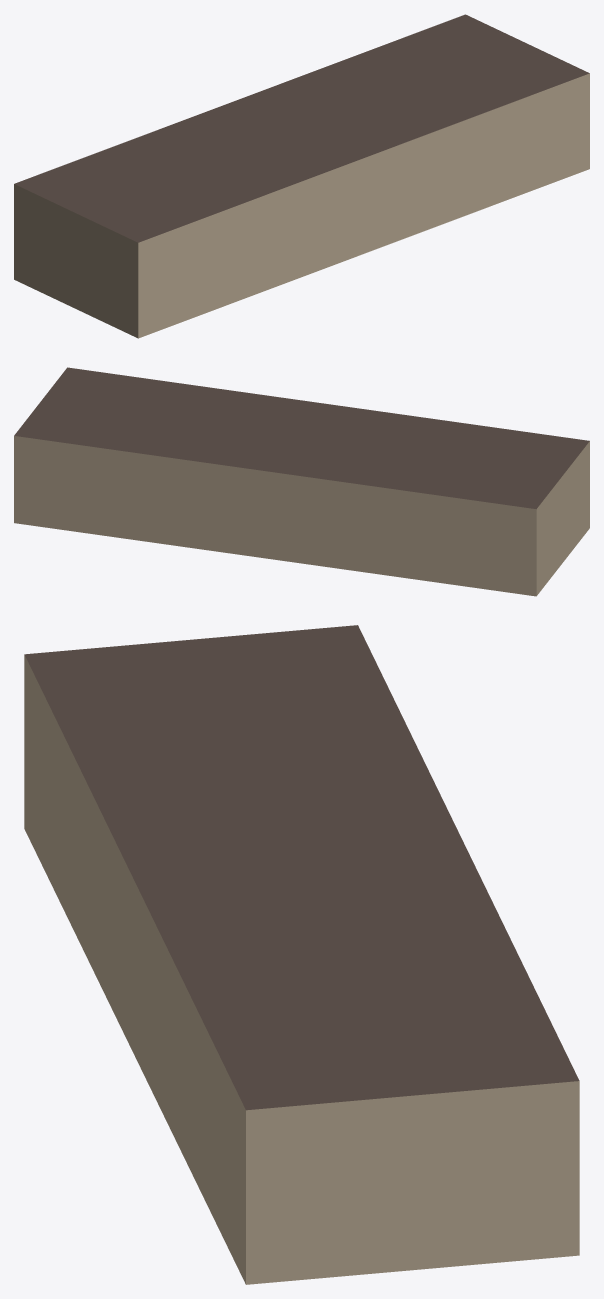
The picture shows the model from 3 angles, top to bottom: view 1: azimuth 30°, elevation 25°; view 2: azimuth 150°, elevation 25°; view 3: azimuth 270°, elevation 25°; orthographic projection. The views are drawn at different scales.
Visible parts, largest first — view 1: HP-w859078977; view 2: HP-w859078977; view 3: HP-w859078977.
Boxes of the visible parts, x1=… form: HP-w859078977: x1=14, y1=14, x2=589, y2=338; HP-w859078977: x1=14, y1=367, x2=589, y2=596; HP-w859078977: x1=24, y1=625, x2=579, y2=1284.
Bounding box in the file's own units: 53.65 × 9 × 25.94.
